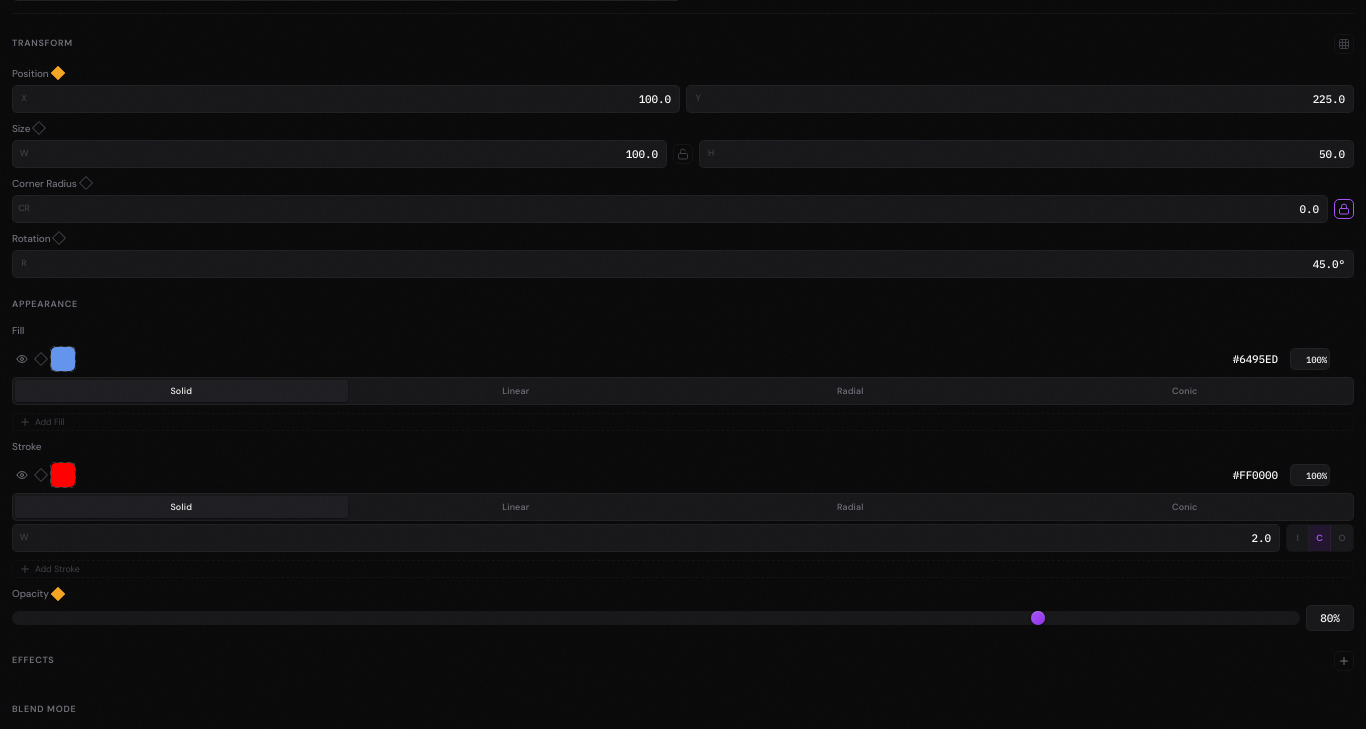
Test: PropertiesPanel › color editing › should open color picker on fill swatch click
(page scrolled)
Click the button with test id "fill-swatch" at (63, 359), box [50, 346, 76, 372]
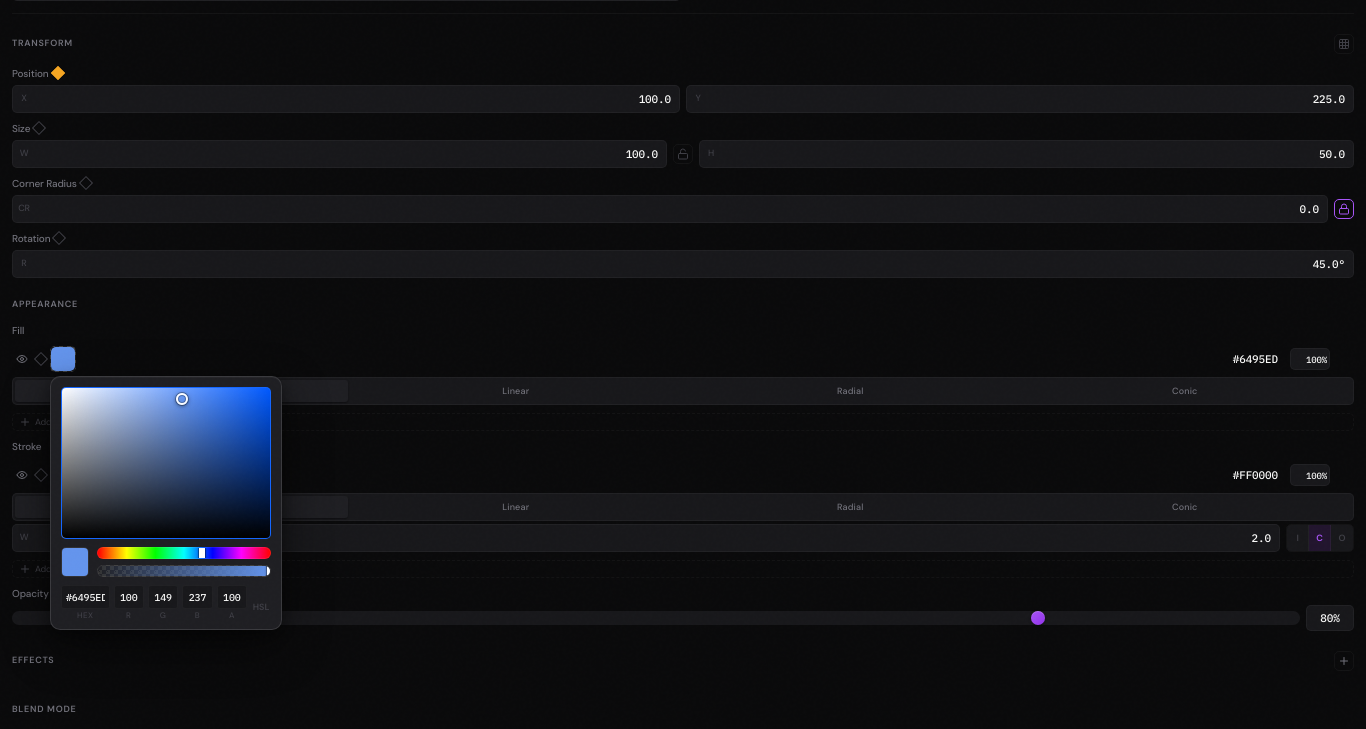
Check: the element with test id "color-picker" is shown, box [50, 376, 282, 630]
